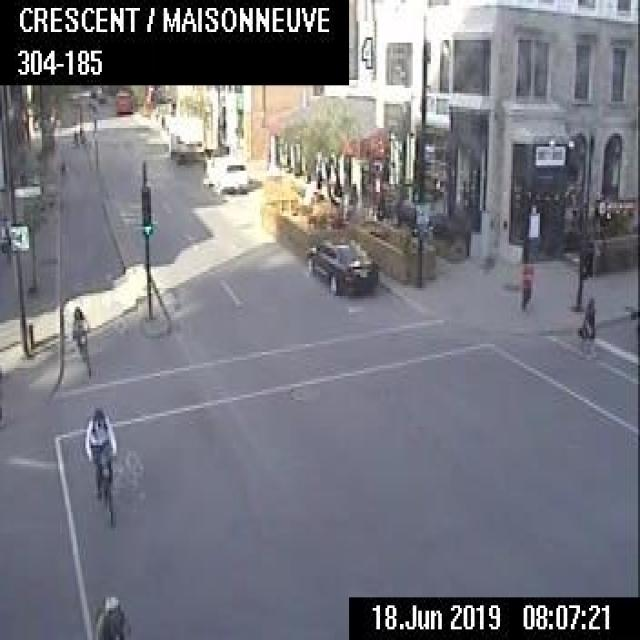cyclist: (82, 400, 116, 531), (91, 590, 134, 638), (67, 299, 89, 373)
pedestrian: (574, 293, 594, 358), (518, 256, 535, 311)
vehicle: (304, 235, 376, 294), (206, 152, 247, 192), (168, 114, 203, 160), (115, 88, 132, 113)
